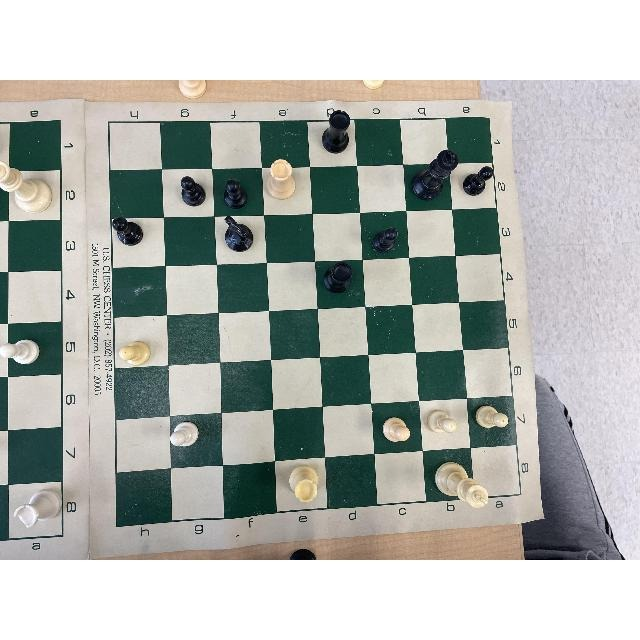black-king: (409, 149, 462, 209)
black-knight: (221, 215, 259, 257)
black-pawn: (108, 216, 146, 247), (178, 176, 209, 208), (463, 166, 494, 197), (367, 230, 397, 260), (220, 179, 250, 207)
black-rook: (320, 105, 353, 159), (321, 261, 355, 295)
white-king: (433, 461, 491, 510)
white-pawn: (2, 338, 42, 366), (473, 403, 511, 432), (423, 407, 461, 435), (380, 418, 414, 448), (117, 341, 153, 369), (168, 420, 199, 447)
white-queen: (0, 150, 53, 215)
white-rook: (11, 487, 64, 530), (268, 158, 300, 204), (282, 467, 322, 503)
